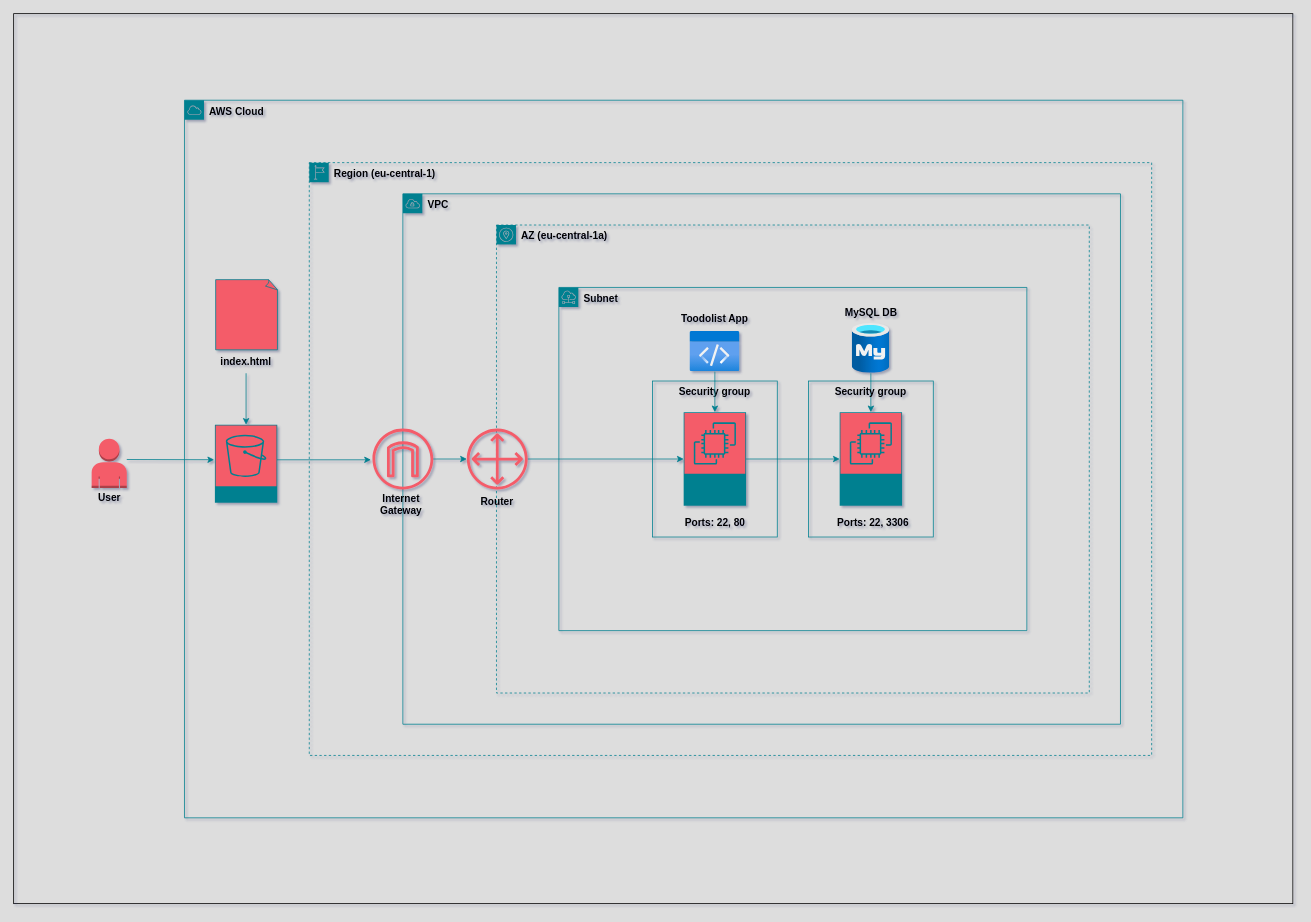
The diagram is 1311 pixels wide and 922 high, and some of its shapes have lost their labels. Here are the shapes that lost their labels. From the top down, the centre of each, then its label:
the point at 245,463: Amazon S3
the point at 714,458: Amazon EC2 Backend
the point at 870,458: Amazon EC2 Database
